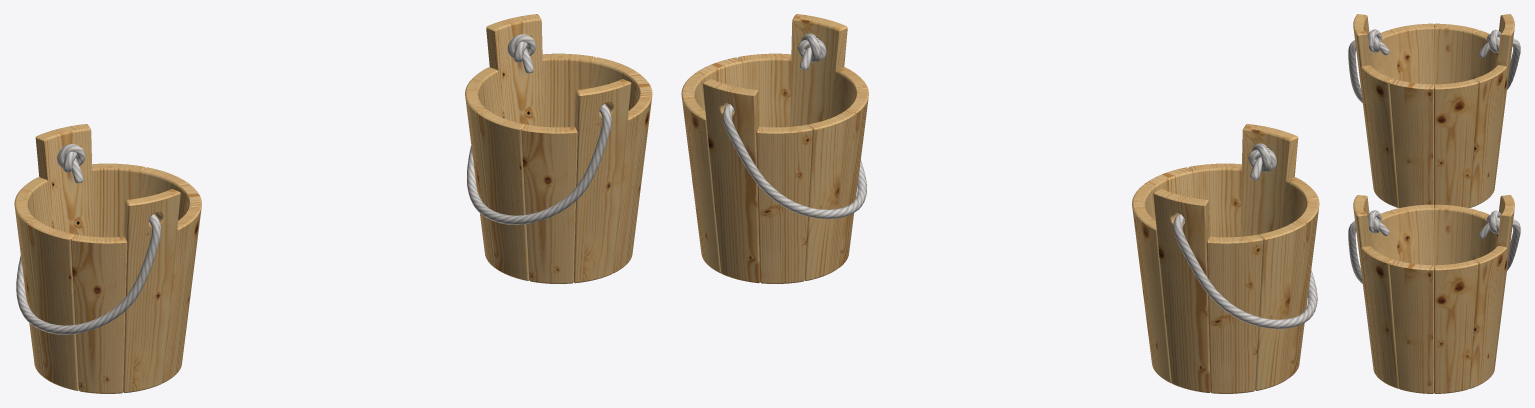
File: BUCKETS_23-10.gltf
3 views of the same model, side by side, from view 1: azimuth 30°, elevation 25°; view 2: azimuth 150°, elevation 25°; view 3: azimuth 270°, elevation 25° (orthographic). The views are drawn at different scales.
Visible parts, largest first — view 1: WoodenBucket_WoodenBucket_0, WoodenBucket_WoodenBucket_0.001; view 2: WoodenBucket_WoodenBucket_0, WoodenBucket_WoodenBucket_0.001; view 3: WoodenBucket_WoodenBucket_0.001, WoodenBucket_WoodenBucket_0.
Boxes of the visible parts, x1,y1,x2,y2 form: WoodenBucket_WoodenBucket_0: (14, 124, 201, 393); WoodenBucket_WoodenBucket_0.001: (465, 14, 652, 283); WoodenBucket_WoodenBucket_0: (1132, 124, 1319, 393); WoodenBucket_WoodenBucket_0.001: (681, 14, 868, 283); WoodenBucket_WoodenBucket_0.001: (1348, 195, 1520, 393); WoodenBucket_WoodenBucket_0: (1348, 14, 1520, 207).
Size of the model in its own units: 1.06 by 0.3296 by 0.3147.
Materials: 1 (1 with a texture image).
